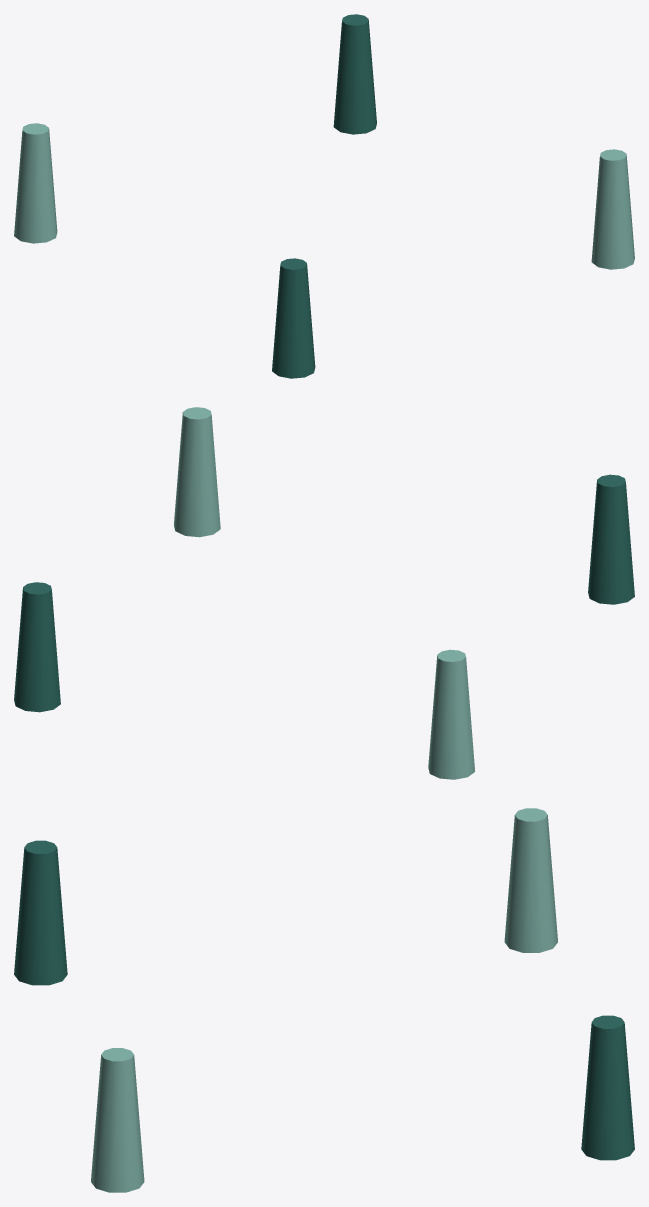
File: boundary.glb
The picture shows the model from 3 angles, top to bottom: view 1: azimuth 30°, elevation 25°; view 2: azimuth 150°, elevation 25°; view 3: azimuth 270°, elevation 25°; orthographic projection. The views are drawn at different scales.
Parts seen in each view (by area): view 1: boundary_0, boundary_1, boundary_2, boundary_3; view 2: boundary_0, boundary_1, boundary_2, boundary_3; view 3: boundary_1, boundary_3, boundary_0, boundary_2.
Boxes of the visible parts, left/top/right/bottom form: boundary_0: left=591, top=149, right=634, bottom=269; boundary_1: left=272, top=258, right=315, bottom=378; boundary_2: left=14, top=123, right=57, bottom=243; boundary_3: left=333, top=14, right=376, bottom=134; boundary_0: left=174, top=407, right=220, bottom=537; boundary_1: left=588, top=474, right=634, bottom=604; boundary_2: left=428, top=649, right=474, bottom=779; boundary_3: left=14, top=582, right=60, bottom=712; boundary_1: left=14, top=840, right=67, bottom=985; boundary_3: left=581, top=1015, right=634, bottom=1160; boundary_0: left=91, top=1048, right=144, bottom=1192; boundary_2: left=504, top=808, right=557, bottom=952.
Size of what is drawn, in the model's own units: 14.97 by 3.4 by 15.04.
